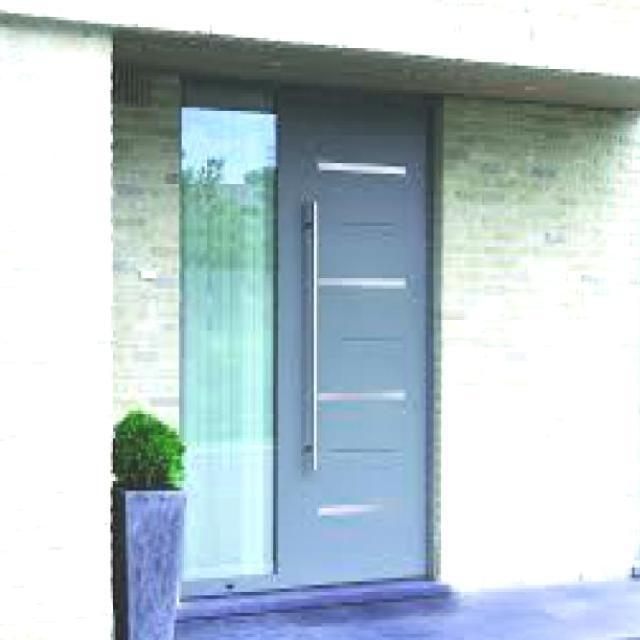door: (273, 90, 432, 585)
